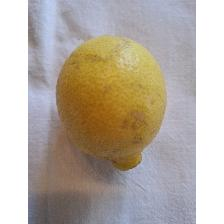Zitrone: (52, 29, 172, 174)
